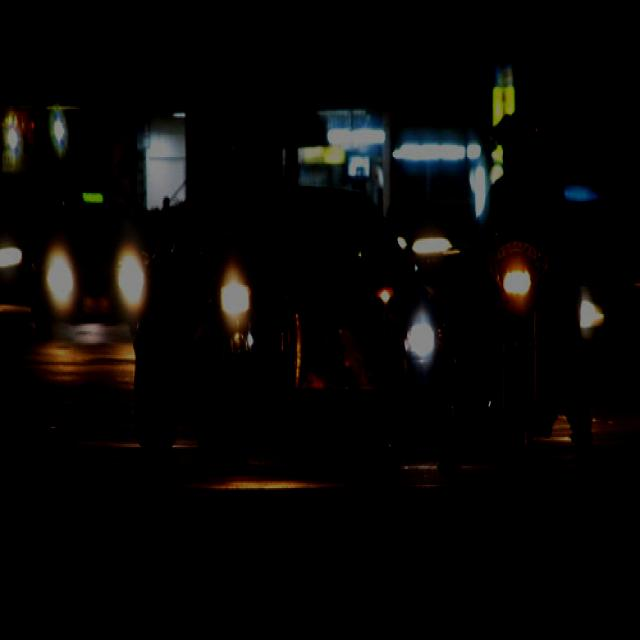Motorbike: (160, 210, 276, 470), (466, 216, 565, 479)
